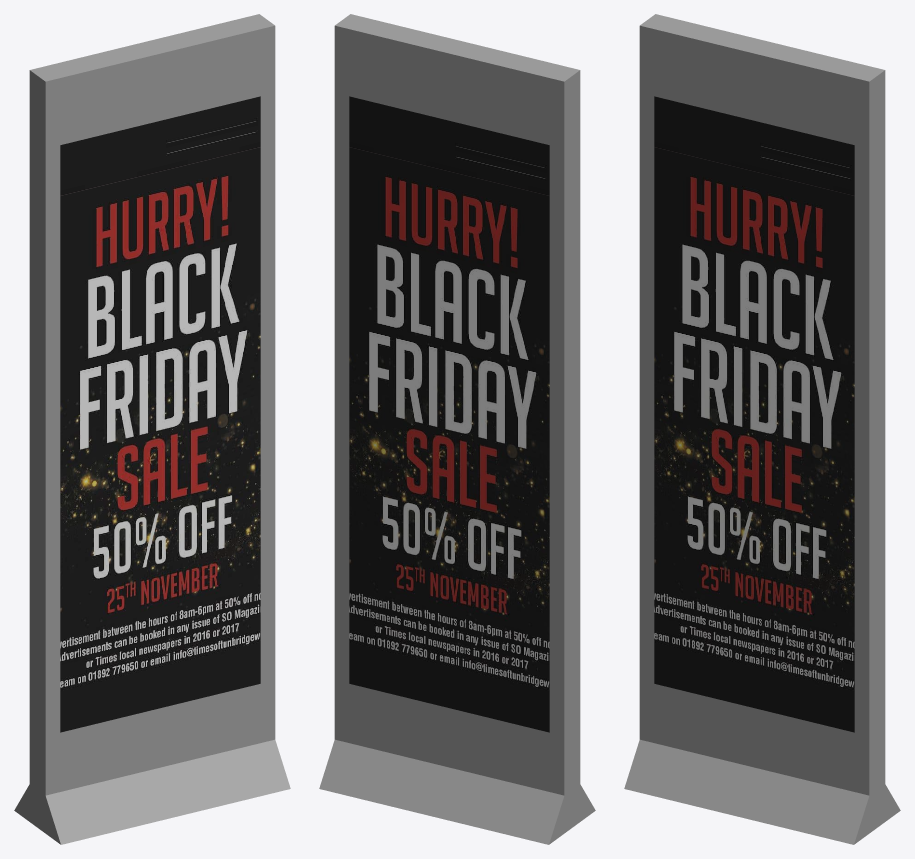
The model's file is Advertisementboard2.fbx.
3 renders of one model, left to right at view 1: azimuth 30°, elevation 25°; view 2: azimuth 150°, elevation 25°; view 3: azimuth 330°, elevation 25°, orthographic.
Visible parts, largest first — view 1: pCube1; view 2: pCube1; view 3: pCube1.
Boxes of the visible parts, <box> form: pCube1: <box>14,14,290,844</box>; pCube1: <box>319,14,595,844</box>; pCube1: <box>624,14,900,844</box>.
Bounding box in the file's own units: 7.99 × 25 × 2.83.
Materials: 2 (1 with a texture image).
